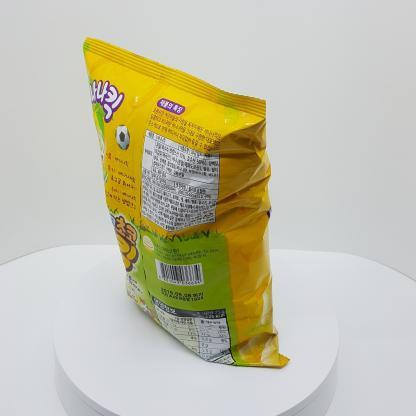Plastic Packaging: (76, 27, 300, 373)
